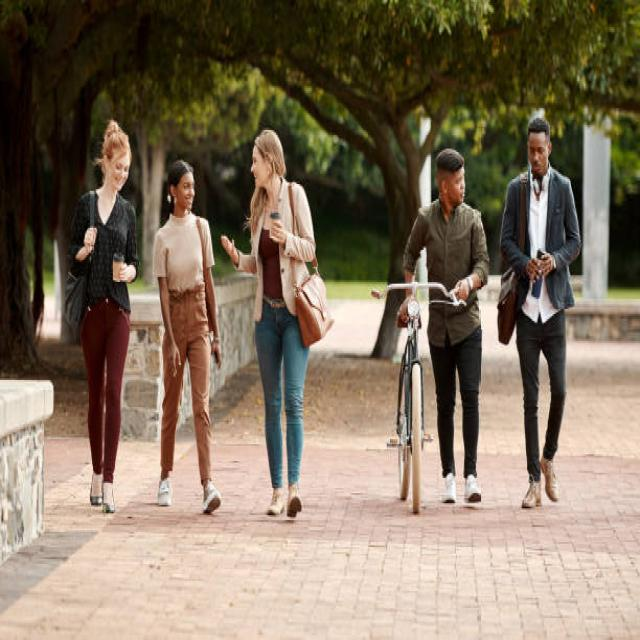bicycle: (371, 149, 489, 512)
